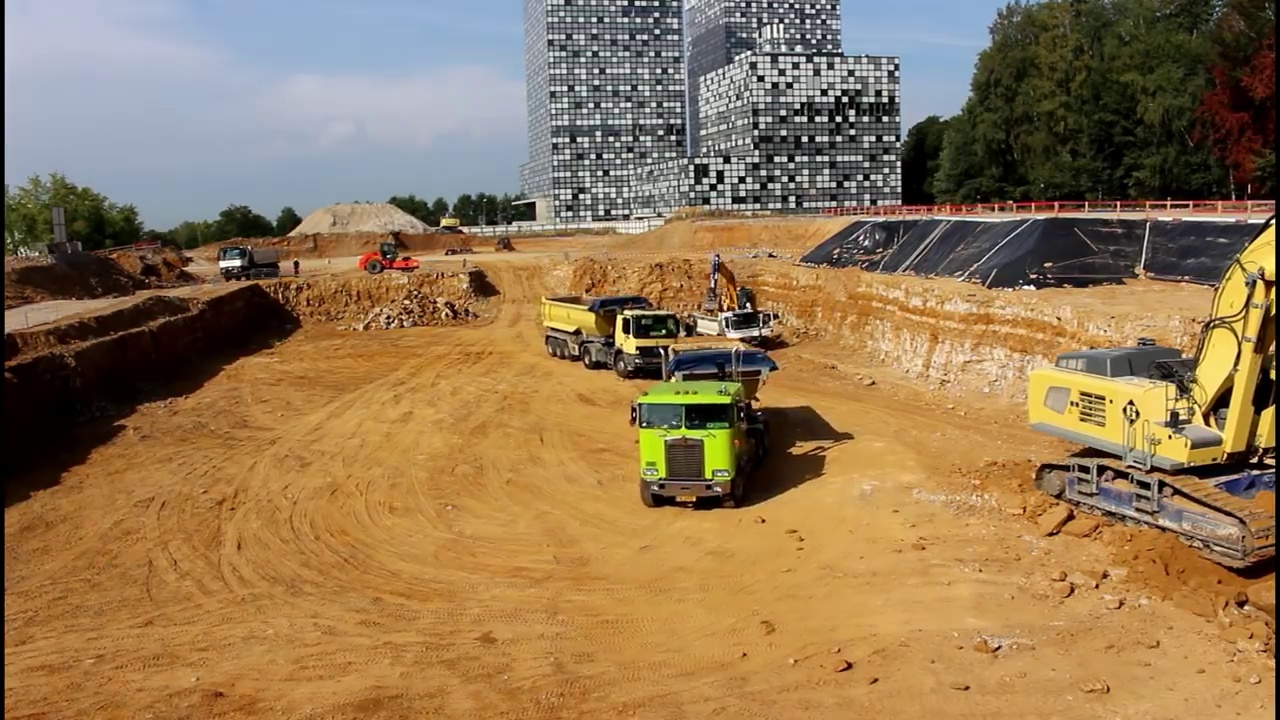compactor: (357, 238, 419, 276)
excavator: (1023, 207, 1280, 580), (703, 252, 768, 327), (437, 207, 464, 237)
truck: (626, 330, 765, 513), (538, 289, 684, 382), (689, 302, 775, 350), (216, 240, 282, 279)
worker: (291, 254, 305, 283)
